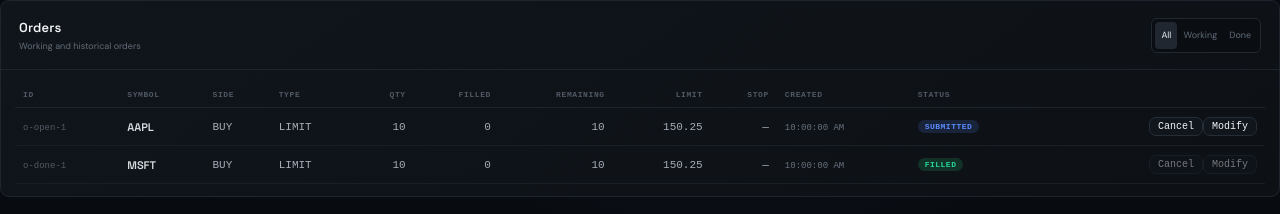
Scenario: OrderBlotter › status segmented filter narrows the visible rows
Expected: the text "AAPL" is shown, [127, 120, 154, 134]
Expected: the text "MSFT" is shown, [127, 158, 156, 172]
Click the radio button labelled "Working" at [1200, 35], box [1177, 22, 1223, 48]
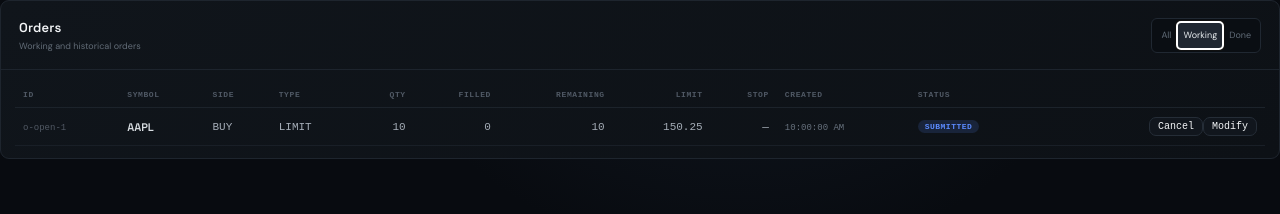
Expected: the text "AAPL" is shown, [127, 120, 154, 134]
Expected: the text "MSFT" is gone
Click the radio button labelled "Done" at [1240, 35], box [1223, 22, 1257, 48]
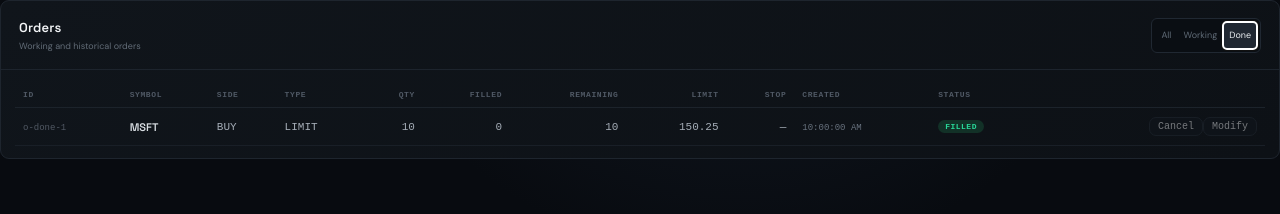
Expected: the text "AAPL" is gone
Expected: the text "MSFT" is shown, [130, 120, 158, 134]
